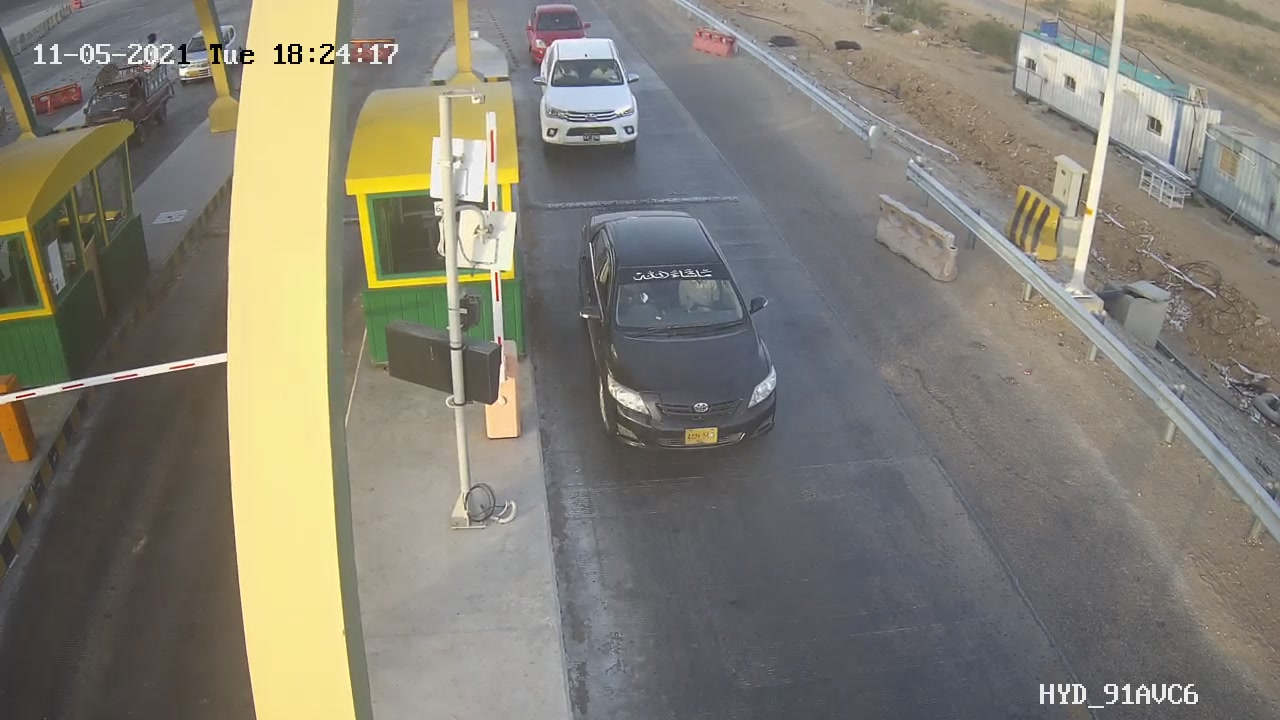F1: (565, 204, 781, 470), (524, 33, 654, 153)
